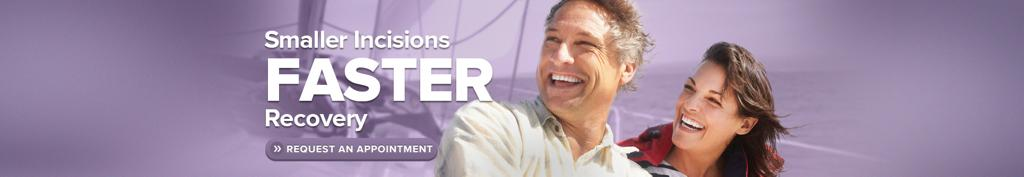face: (538, 10, 614, 110), (674, 52, 734, 146)
